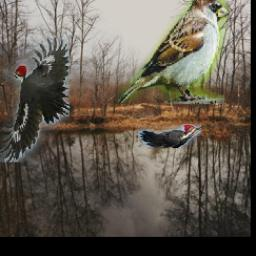Sparrow: (115, 0, 229, 104)
Woodpecker: (0, 36, 71, 163), (138, 125, 201, 149)
